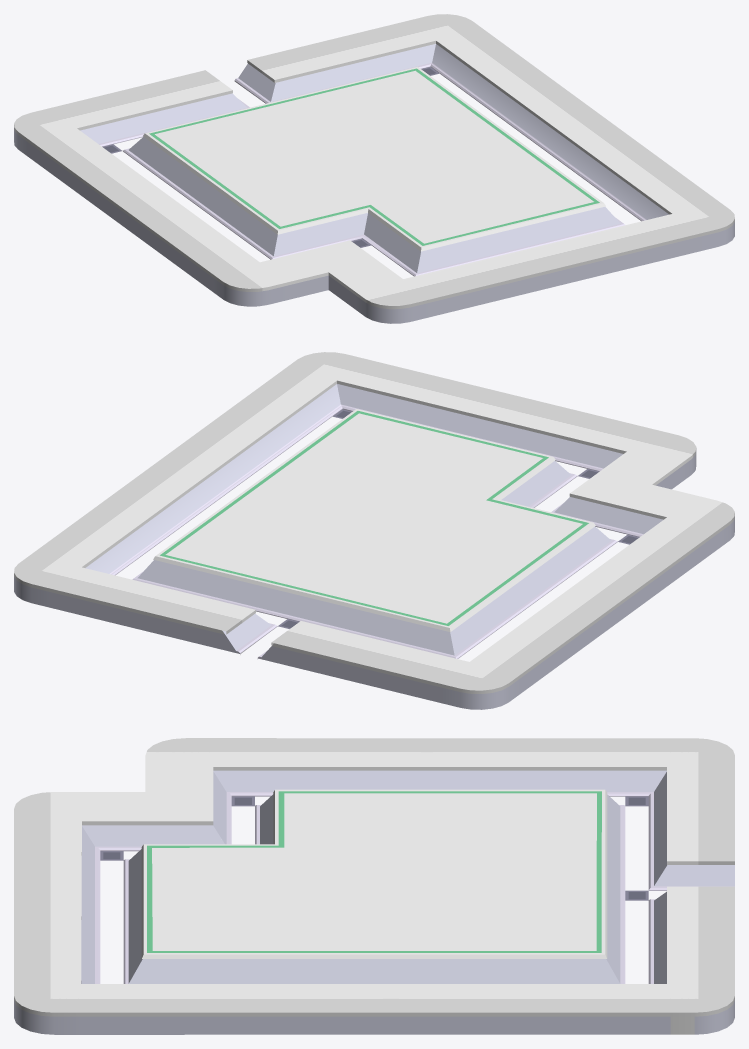
Rendered from M_level03_platform.fbx.
The picture shows the model from 3 angles, top to bottom: view 1: azimuth 30°, elevation 25°; view 2: azimuth 150°, elevation 25°; view 3: azimuth 270°, elevation 25°; orthographic projection. The views are drawn at different scales.
Parts seen in each view (by area): view 1: PRE_platform_frame_lvl03, M_platform_lvl03; view 2: PRE_platform_frame_lvl03, M_platform_lvl03; view 3: PRE_platform_frame_lvl03, M_platform_lvl03.
Part boxes in pixels (x1,y1,x2,y2): PRE_platform_frame_lvl03: (14,14,734,323); M_platform_lvl03: (123,66,625,276); PRE_platform_frame_lvl03: (14,352,734,709); M_platform_lvl03: (132,409,617,658); PRE_platform_frame_lvl03: (14,738,734,1034); M_platform_lvl03: (123,789,625,983).
Bounding box in the file's own units: 111 × 5.21 × 124.
